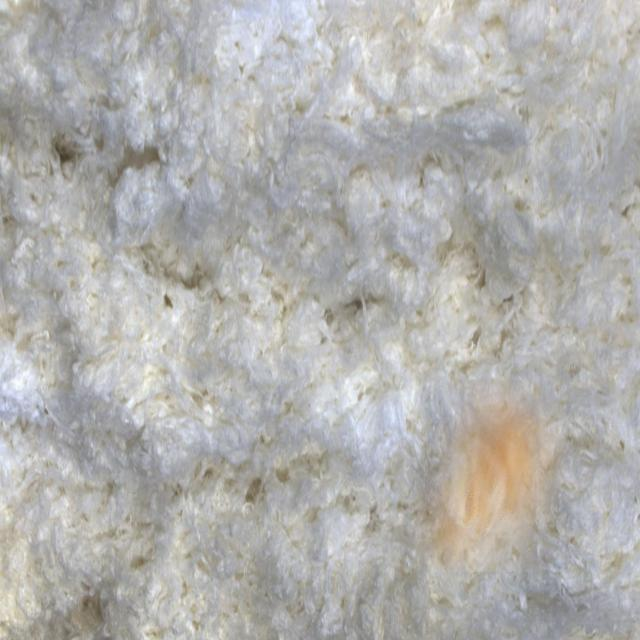dust: (411, 379, 570, 572)
